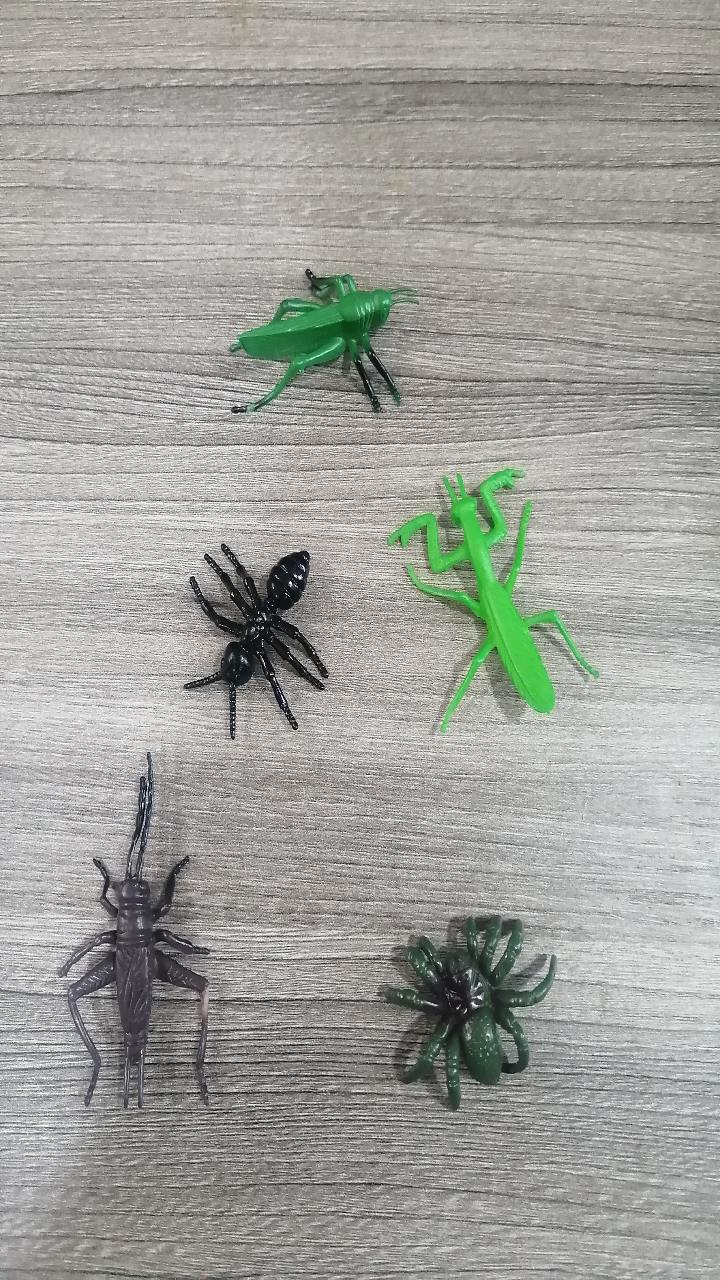intruso: (41, 734, 266, 1114), (384, 432, 621, 771), (355, 880, 578, 1148), (184, 220, 431, 460), (161, 488, 357, 746)
